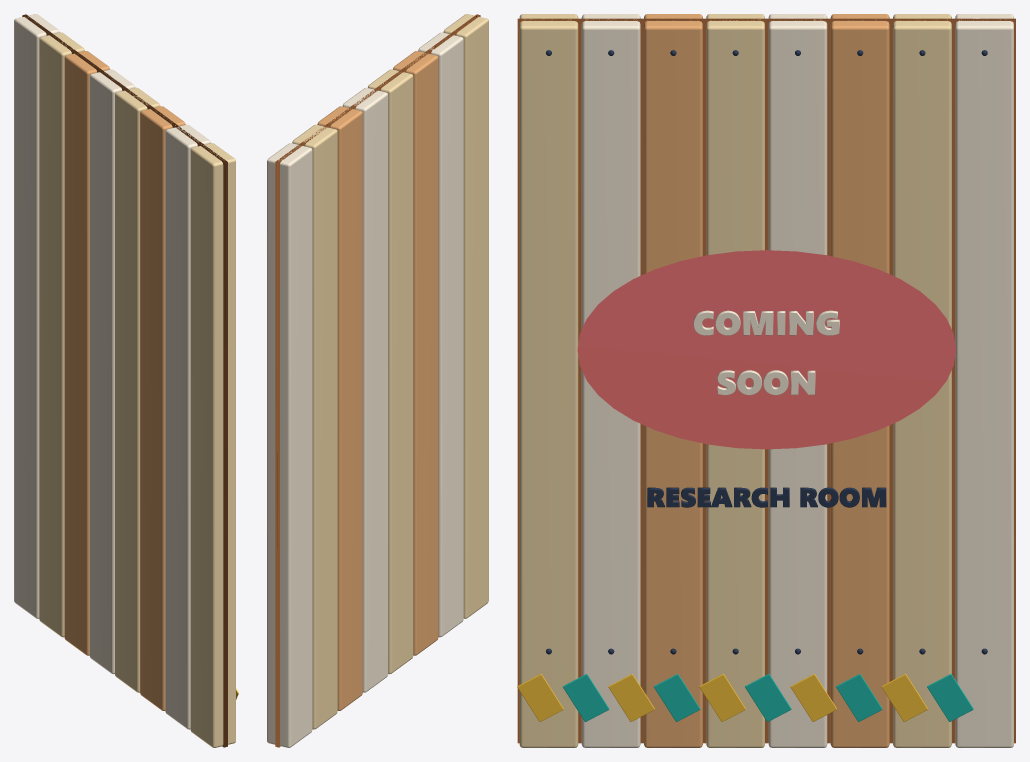
Rendered from PartitionResearch.fbx.
The picture shows the model from 3 angles, left to right: view 1: azimuth 30°, elevation 25°; view 2: azimuth 150°, elevation 25°; view 3: azimuth 270°, elevation 25°; orthographic projection. The views are drawn at different scales.
Parts seen in each view (by area): view 1: PartitionResearch mesh; view 2: PartitionResearch mesh; view 3: PartitionResearch mesh.
Part boxes in pixels (x1,y1,x2,y2): PartitionResearch mesh: (14, 14, 238, 747); PartitionResearch mesh: (267, 14, 488, 747); PartitionResearch mesh: (517, 14, 1015, 747).
Size of the model in its own units: 0.1395 by 2.8 by 1.75.
